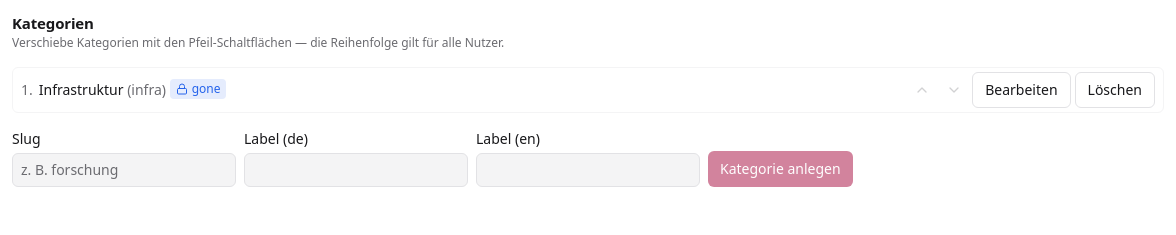
Scenario: Category editor visibility selector › renders the selector for a stale group even with nothing configured
Click the button "Bearbeiten": (1021, 90) [972, 72, 1071, 108]
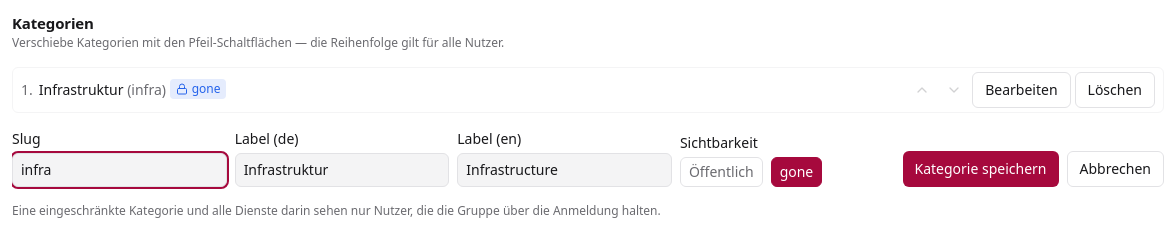
Result: the radio button labelled "gone" is checked at [771, 156, 822, 186]
Result: the radio button labelled "Öffentlich" is shown at [680, 156, 763, 186]
